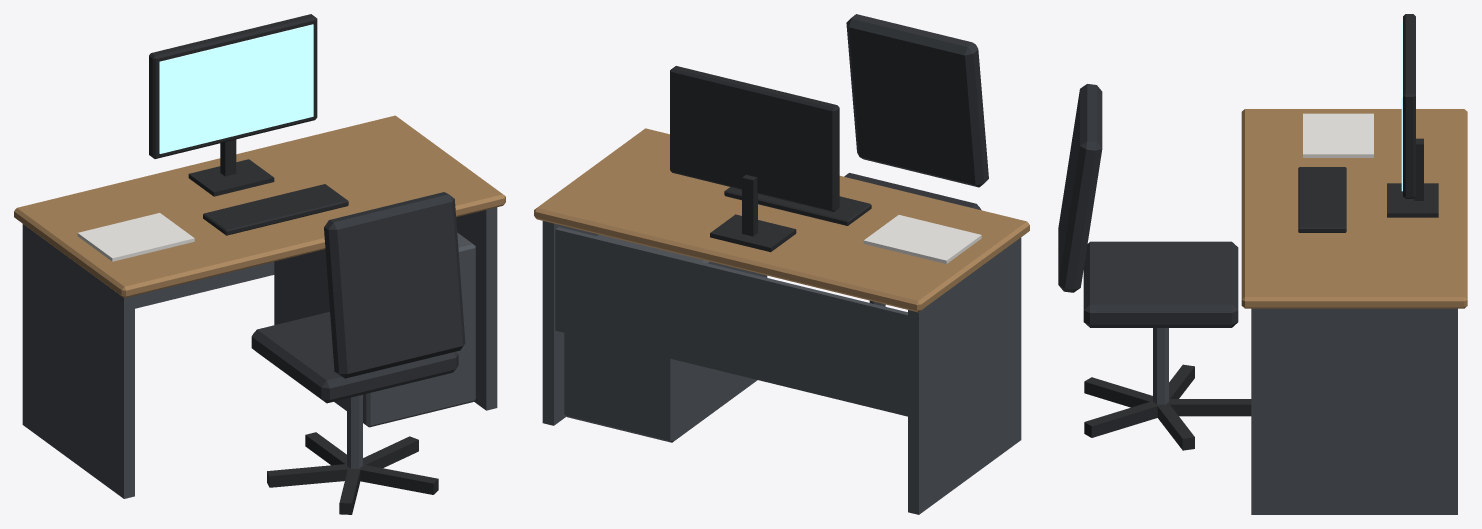
File: office_desk.glb
3 views of the same model, side by side, from view 1: azimuth 30°, elevation 25°; view 2: azimuth 150°, elevation 25°; view 3: azimuth 270°, elevation 25° (orthographic).
Parts seen in each view (by area): view 1: OfficeDesk; view 2: OfficeDesk; view 3: OfficeDesk.
Boxes of the visible parts, box(x1,y1,x2,y2) form: OfficeDesk: box(14, 14, 505, 514); OfficeDesk: box(534, 14, 1029, 514); OfficeDesk: box(1058, 14, 1467, 514).
Size of what is drawn, in the model's own units: 1.4 by 1.26 by 1.27.
